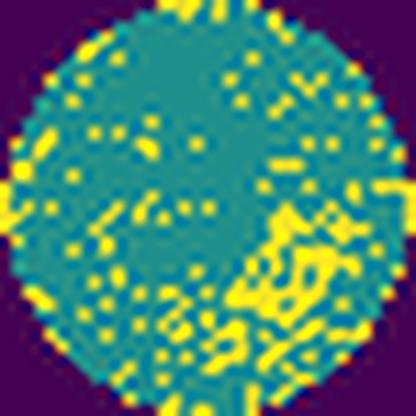Edge-Loc: (222, 197, 373, 328), (204, 316, 250, 380)
